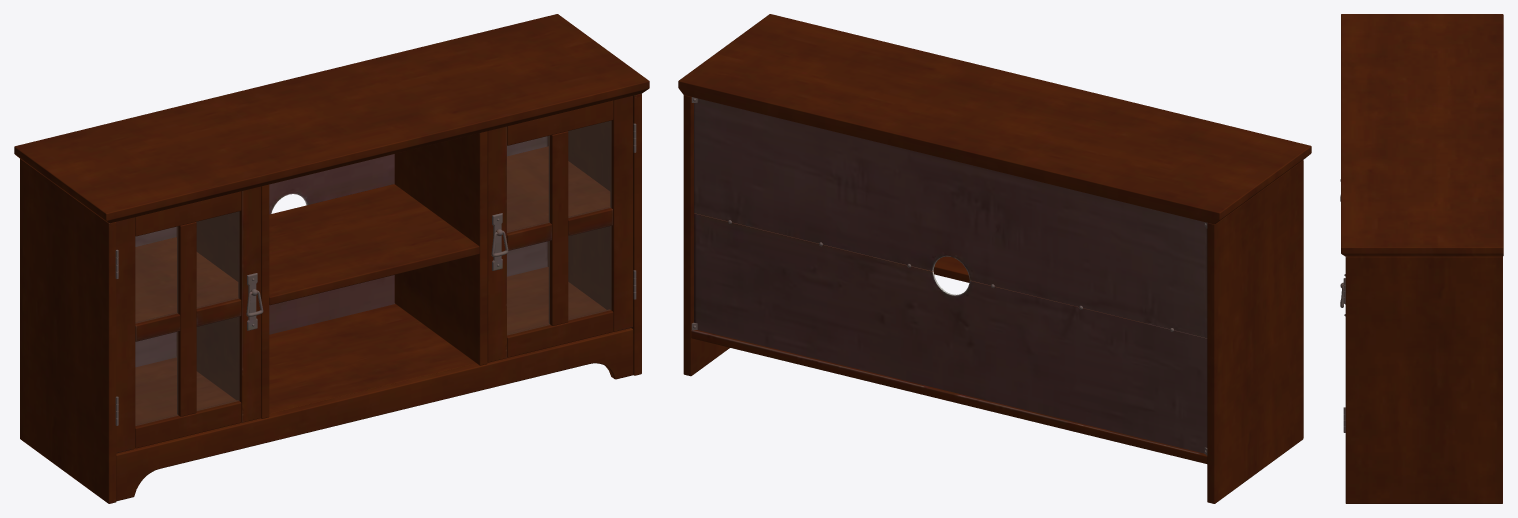
Rendered from abo-B07DBFC2N9.glb.
The picture shows the model from 3 angles, left to right: view 1: azimuth 30°, elevation 25°; view 2: azimuth 150°, elevation 25°; view 3: azimuth 270°, elevation 25°; orthographic projection. The views are drawn at different scales.
Bounding box in the file's own units: 1.17 × 0.603 × 0.344.
Materials: 1 (1 with a texture image).
